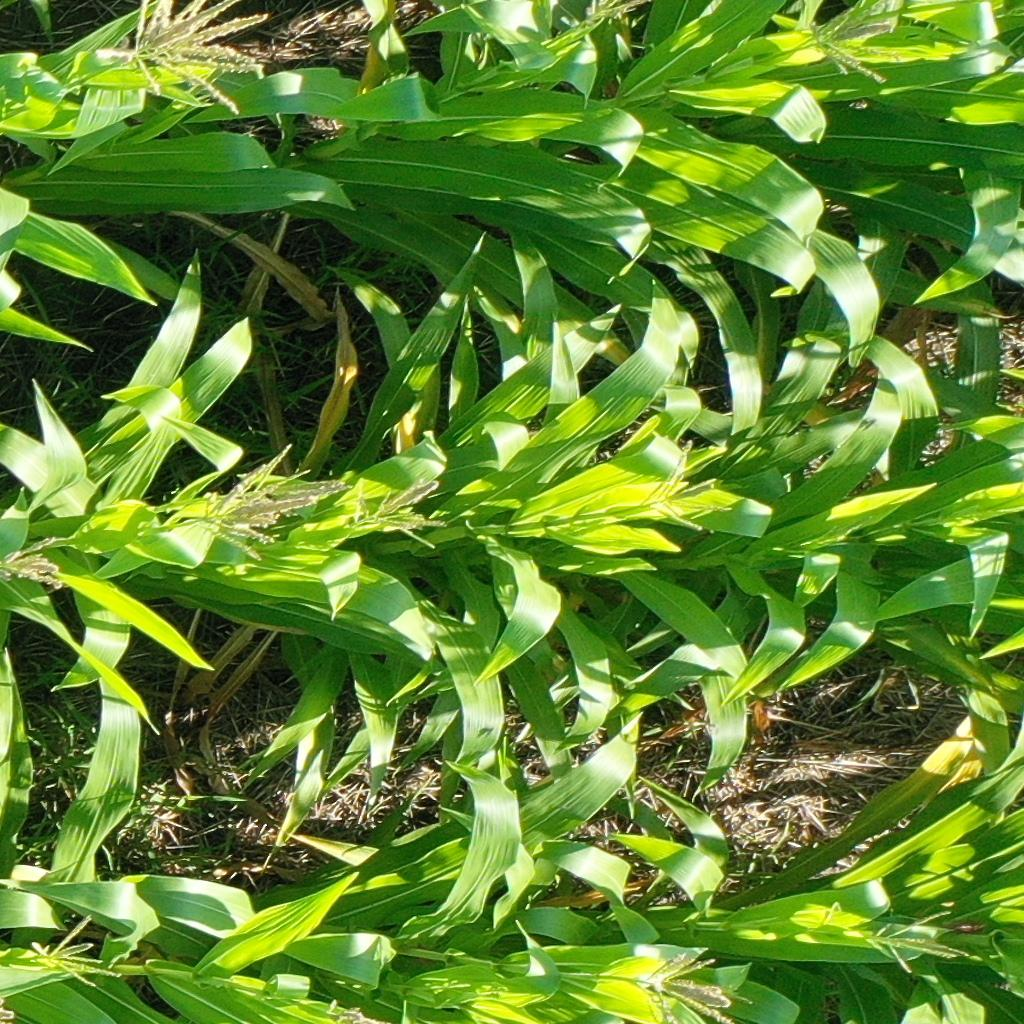Tassel: (94, 1, 271, 114), (192, 440, 347, 562), (800, 1, 914, 87), (636, 435, 732, 533), (861, 905, 976, 975), (630, 946, 731, 1024), (37, 912, 123, 986), (368, 475, 449, 550), (1, 532, 83, 592), (813, 513, 872, 549), (589, 1, 649, 27), (331, 1001, 395, 1024)
